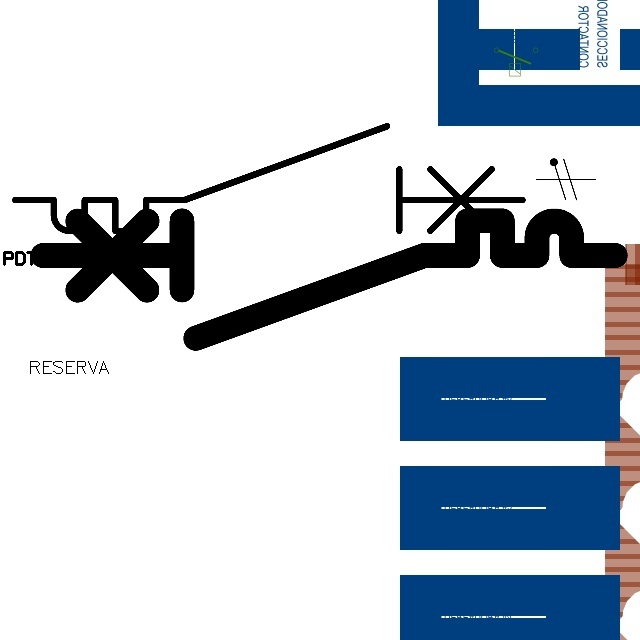interruptor_termomagnetico: (28, 206, 630, 353), (2, 113, 536, 244)
